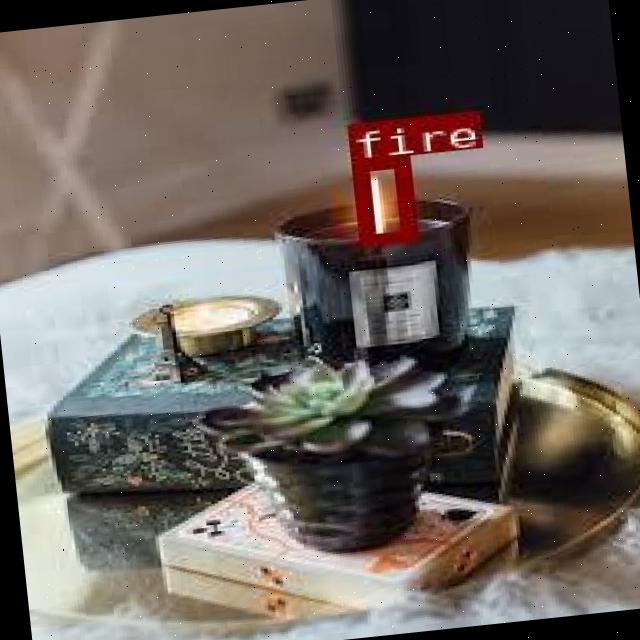fire: (348, 155, 414, 243)
